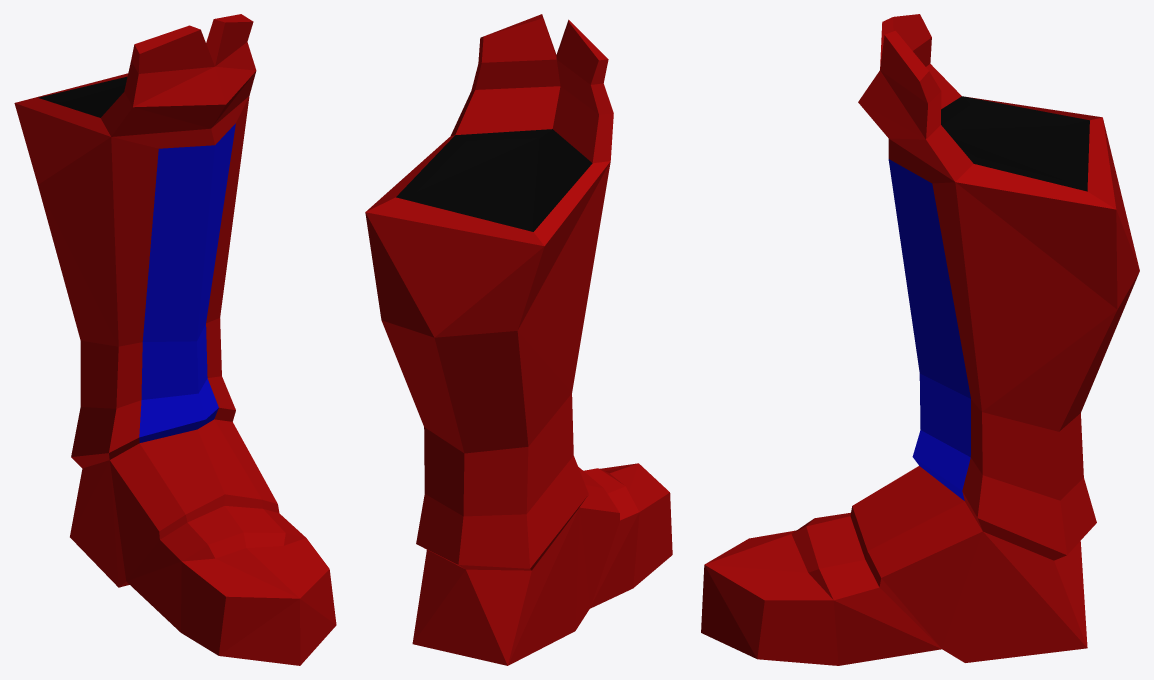
The model's file is Chr_LegRight_Male_Static_14.fbx.
The picture shows the model from 3 angles, left to right: view 1: azimuth 30°, elevation 25°; view 2: azimuth 150°, elevation 25°; view 3: azimuth 270°, elevation 25°; orthographic projection. The views are drawn at different scales.
Parts seen in each view (by area): view 1: Chr_LegRight_Male_14; view 2: Chr_LegRight_Male_14; view 3: Chr_LegRight_Male_14.
Boxes of the visible parts, x1=… form: Chr_LegRight_Male_14: x1=14, y1=14, x2=336, y2=665; Chr_LegRight_Male_14: x1=365, y1=14, x2=672, y2=665; Chr_LegRight_Male_14: x1=701, y1=14, x2=1139, y2=665.
Bounding box in the file's own units: 15.61 × 49.79 × 32.65.
